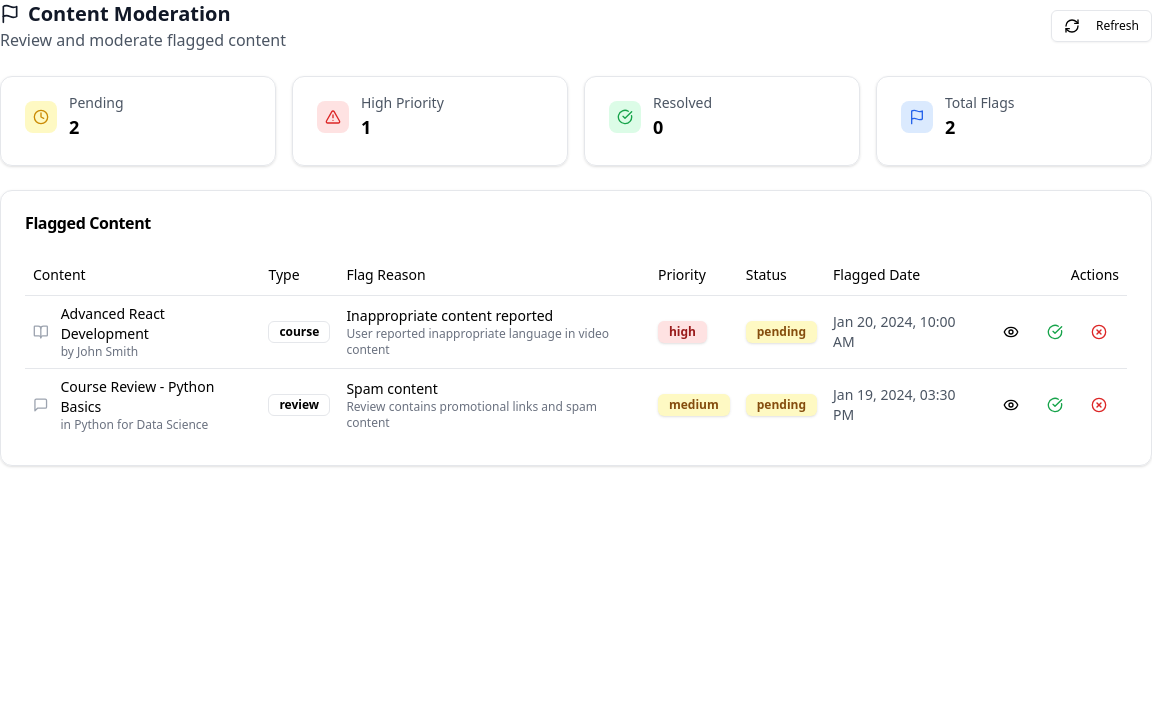
Test case: ContentModerationPanel › handles approve content action
Step 1. Click the button titled "Approve Content" in the row of "Advanced React Development" → point(1055, 332), box [1035,316,1075,348]
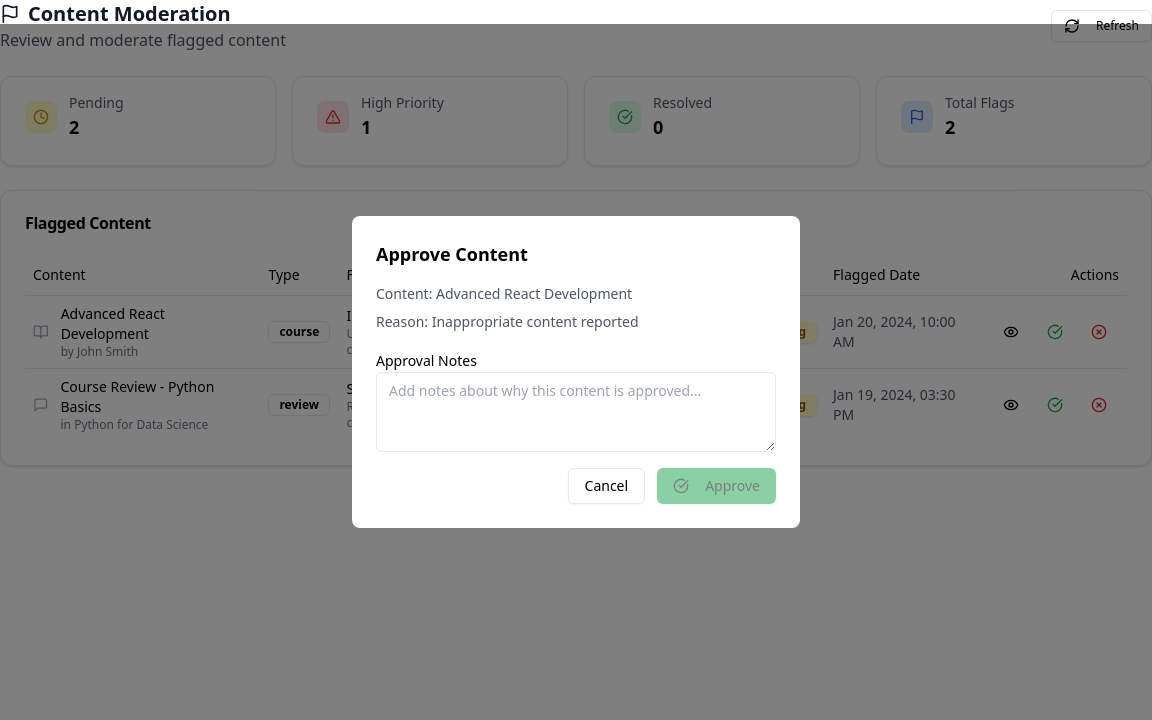
Now the heading "Approve Content" is shown, box [376,242,528,266]
Now the text "Content: Advanced React Development" is shown, box [376,284,632,303]
